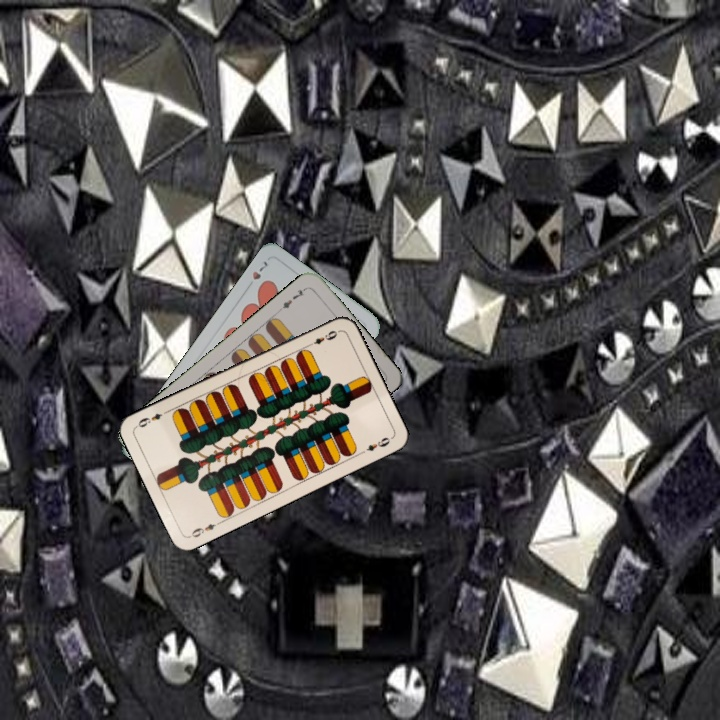E7: (275, 284, 310, 313)
E9: (303, 326, 342, 349), (186, 517, 224, 540)
H7: (243, 257, 271, 291)
